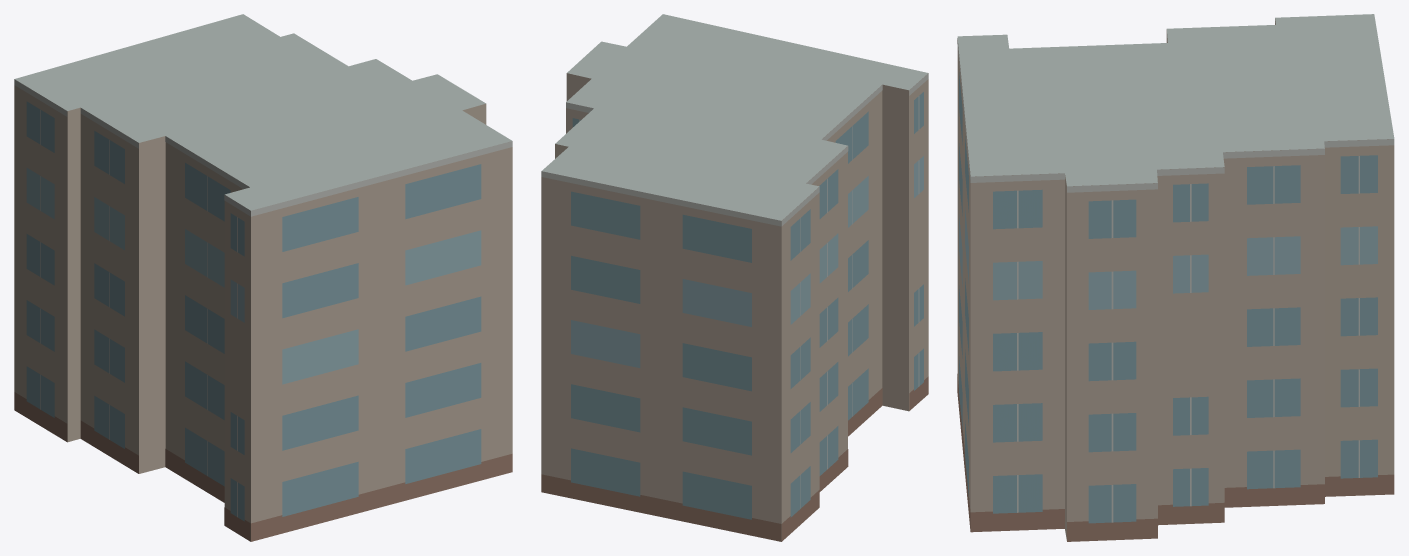
Rendered from survey-upis-33015612.glb.
The picture shows the model from 3 angles, left to right: view 1: azimuth 30°, elevation 25°; view 2: azimuth 150°, elevation 25°; view 3: azimuth 270°, elevation 25°; orthographic projection. The views are drawn at different scales.
Visible parts, largest first — view 1: survey-upis-33015612.tmp; view 2: survey-upis-33015612.tmp; view 3: survey-upis-33015612.tmp.
Part boxes in pixels (box(x1,y1,x2,y2)): survey-upis-33015612.tmp: box(14, 14, 512, 541); survey-upis-33015612.tmp: box(541, 14, 928, 541); survey-upis-33015612.tmp: box(957, 14, 1394, 541).
Size of the model in its own units: 14.04 by 13.5 by 15.05.
